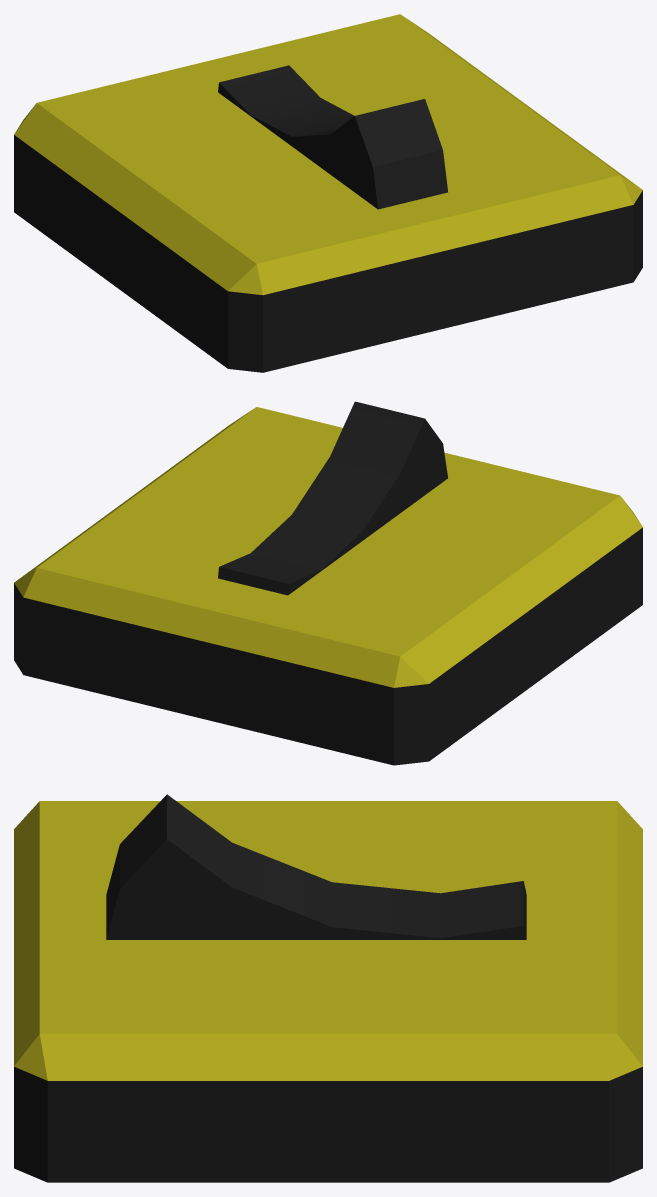
Rendered from wall_switch.fbx.
3 views of the same model, one above another, from view 1: azimuth 30°, elevation 25°; view 2: azimuth 150°, elevation 25°; view 3: azimuth 270°, elevation 25° (orthographic). The views are drawn at different scales.
Visible parts, largest first — view 1: wall_switch_base, wall_switch_tumbler; view 2: wall_switch_base, wall_switch_tumbler; view 3: wall_switch_base, wall_switch_tumbler.
Boxes of the visible parts, box(x1,y1,x2,y2) form: wall_switch_base: box(14, 14, 642, 372); wall_switch_tumbler: box(218, 65, 447, 209); wall_switch_base: box(14, 407, 642, 765); wall_switch_tumbler: box(218, 401, 447, 595); wall_switch_base: box(14, 801, 642, 1182); wall_switch_tumbler: box(106, 794, 526, 939).
Size of the model in its own units: 0.0703 by 0.0703 by 0.0288.
